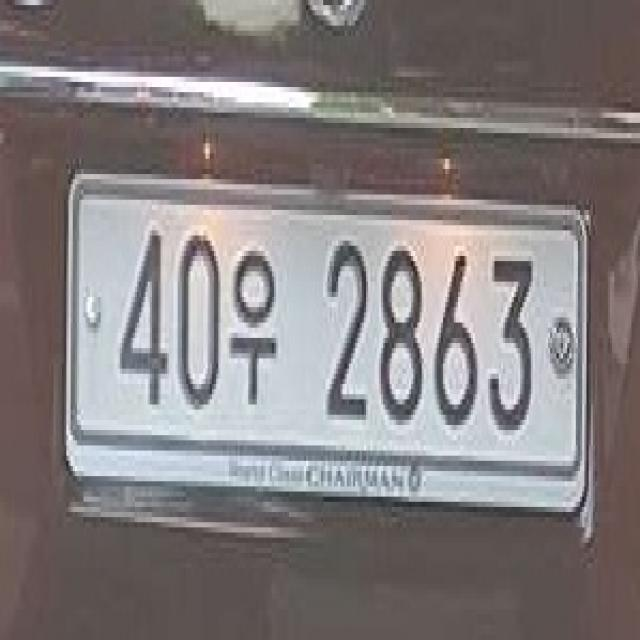0: (178, 230, 220, 410)
2: (321, 241, 370, 425)
3: (486, 251, 535, 440)
4: (116, 220, 169, 415)
6: (432, 246, 478, 430)
8: (379, 241, 426, 435)
license_plate: (66, 169, 584, 476)
u: (231, 246, 278, 404)
